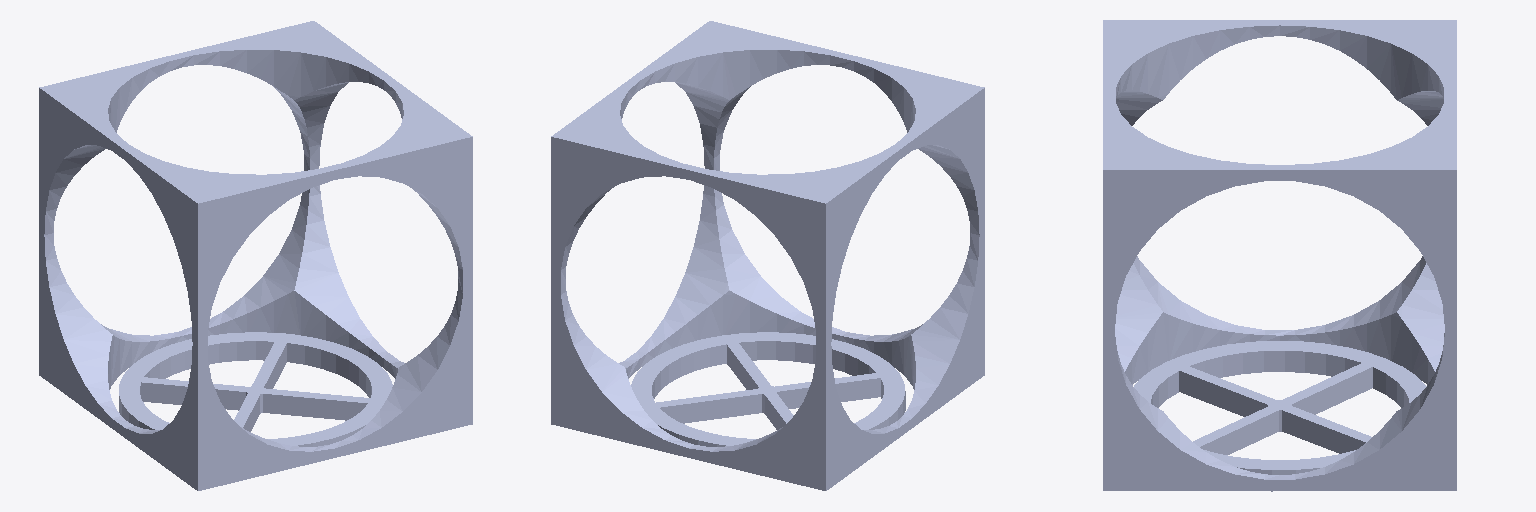
robot.urdf — cubli:
<?xml version="1.0" encoding="utf-8"?>
<!-- This URDF was automatically created by SolidWorks to URDF Exporter! Originally created by [author] ([email redacted]) 
     Commit Version: 1.6.0-4-g7f85cfe  Build Version: 1.6.7995.38578
     For more information, please see http://wiki.ros.org/sw_urdf_exporter -->
<robot
  name="cubli">
  <link
    name="base">
    <inertial>
      <origin
        xyz="0.075 0.075 0.075"
        rpy="0 0 0" />
      <mass
        value="0.4" />
      <inertia
        ixx="0.0065"
        ixy="0.00225"
        ixz="0.00225"
        iyy="0.0065"
        iyz="0.00225"
        izz="0.0065" />
    </inertial>
    <visual>
      <origin
        xyz="0 0 0"
        rpy="0 0 0" />
      <geometry>
        <mesh
          filename="../meshes/base.dae" />
      </geometry>
      <material
        name="">
        <color
          rgba="0.79216 0.81961 0.93333 1" />
      </material>
    </visual>
    <collision>
      <origin
        xyz="0 0 0"
        rpy="0 0 0" />
      <geometry>
        <mesh
          filename="../meshes/base.dae" />
      </geometry>
    </collision>
  </link>
  <link
    name="wheel1">
    <inertial>
      <origin
        xyz="0 0 0"
        rpy="0 0 0" />
      <mass
        value="0.15" />
      <inertia
        ixx="5E-05"
        ixy="0"
        ixz="0"
        iyy="5E-05"
        iyz="0"
        izz="0.0001" />
    </inertial>
    <visual>
      <origin
        xyz="0 0 0"
        rpy="0 0 0" />
      <geometry>
        <mesh
          filename="../meshes/wheel1.dae" />
      </geometry>
      <material
        name="">
        <color
          rgba="0.79216 0.81961 0.93333 1" />
      </material>
    </visual>
    <collision>
      <origin
        xyz="0 0 0"
        rpy="0 0 0" />
      <geometry>
        <mesh
          filename="../meshes/wheel1.dae" />
      </geometry>
    </collision>
  </link>
  <joint
    name="base_wheel1"
    type="continuous">
    <origin
      xyz="0 0.075 0.075"
      rpy="-1.5708 -0.9258 1.5708" />
    <parent
      link="base" />
    <child
      link="wheel1" />
    <axis
      xyz="0 0 -1" />
  </joint>
  <link
    name="wheel2">
    <inertial>
      <origin
        xyz="0 0 0"
        rpy="0 0 0" />
      <mass
        value="0.15" />
      <inertia
        ixx="5E-05"
        ixy="0"
        ixz="0"
        iyy="5E-05"
        iyz="0"
        izz="0.0001" />
    </inertial>
    <visual>
      <origin
        xyz="0 0 0"
        rpy="0 0 0" />
      <geometry>
        <mesh
          filename="../meshes/wheel2.dae" />
      </geometry>
      <material
        name="">
        <color
          rgba="0.79216 0.81961 0.93333 1" />
      </material>
    </visual>
    <collision>
      <origin
        xyz="0 0 0"
        rpy="0 0 0" />
      <geometry>
        <mesh
          filename="../meshes/wheel2.dae" />
      </geometry>
    </collision>
  </link>
  <joint
    name="base_wheel2"
    type="continuous">
    <origin
      xyz="0.075 0 0.075"
      rpy="-1.5708 0.030499 -3.1416" />
    <parent
      link="base" />
    <child
      link="wheel2" />
    <axis
      xyz="0 0 -1" />
  </joint>
  <link
    name="wheel3">
    <inertial>
      <origin
        xyz="0 0 0"
        rpy="0 0 0" />
      <mass
        value="0.15" />
      <inertia
        ixx="5E-05"
        ixy="0"
        ixz="0"
        iyy="5E-05"
        iyz="0"
        izz="0.0001" />
    </inertial>
    <visual>
      <origin
        xyz="0 0 0"
        rpy="0 0 0" />
      <geometry>
        <mesh
          filename="../meshes/wheel3.dae" />
      </geometry>
      <material
        name="">
        <color
          rgba="0.79216 0.81961 0.93333 1" />
      </material>
    </visual>
    <collision>
      <origin
        xyz="0 0 0"
        rpy="0 0 0" />
      <geometry>
        <mesh
          filename="../meshes/wheel3.dae" />
      </geometry>
    </collision>
  </link>
  <joint
    name="base_wheel3"
    type="continuous">
    <origin
      xyz="0.075 0.075 0"
      rpy="3.1416 0 0.83152" />
    <parent
      link="base" />
    <child
      link="wheel3" />
    <axis
      xyz="0 0 -1" />
  </joint>
</robot>

--- What the picture shows (computed from the rendered views, not written in the file) ---
Views: 3 orthographic renders of the robot side by side, from view 1: azimuth 30°, elevation 25°; view 2: azimuth 150°, elevation 25°; view 3: azimuth 270°, elevation 25°.
Robot: cubli — 4 links, 3 joints (3 continuous); root link base; default pose: all joints at 0.
Visible links, largest first — view 1: base, wheel3; view 2: base, wheel3; view 3: base, wheel3.
Boxes of the visible links, left/top/right/bottom form: base: left=39, top=21, right=472, bottom=490; wheel3: left=119, top=332, right=392, bottom=446; base: left=551, top=21, right=984, bottom=490; wheel3: left=631, top=332, right=905, bottom=446; base: left=1103, top=20, right=1456, bottom=490; wheel3: left=1134, top=341, right=1426, bottom=491.
Bounding box of the posed robot: 0.15 × 0.15 × 0.155 m (x, y, z).
Meshes: 4 distinct files referenced, 2 mesh visuals loaded (2 Collada DAE); not drawn: 2 (reference not matched to a file when rendering).